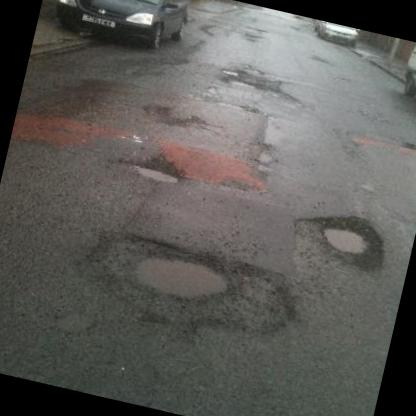pothole: (67, 221, 304, 347), (300, 204, 392, 274), (215, 64, 282, 98), (126, 154, 188, 188)
